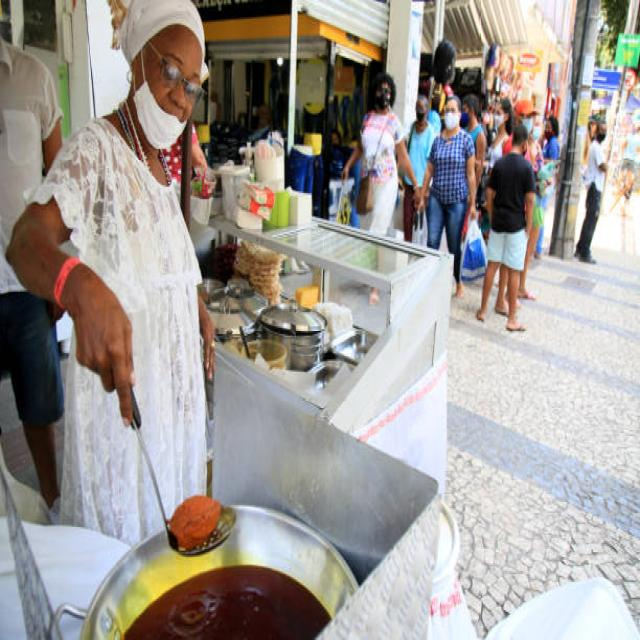Emperan: (29, 125, 606, 640)
